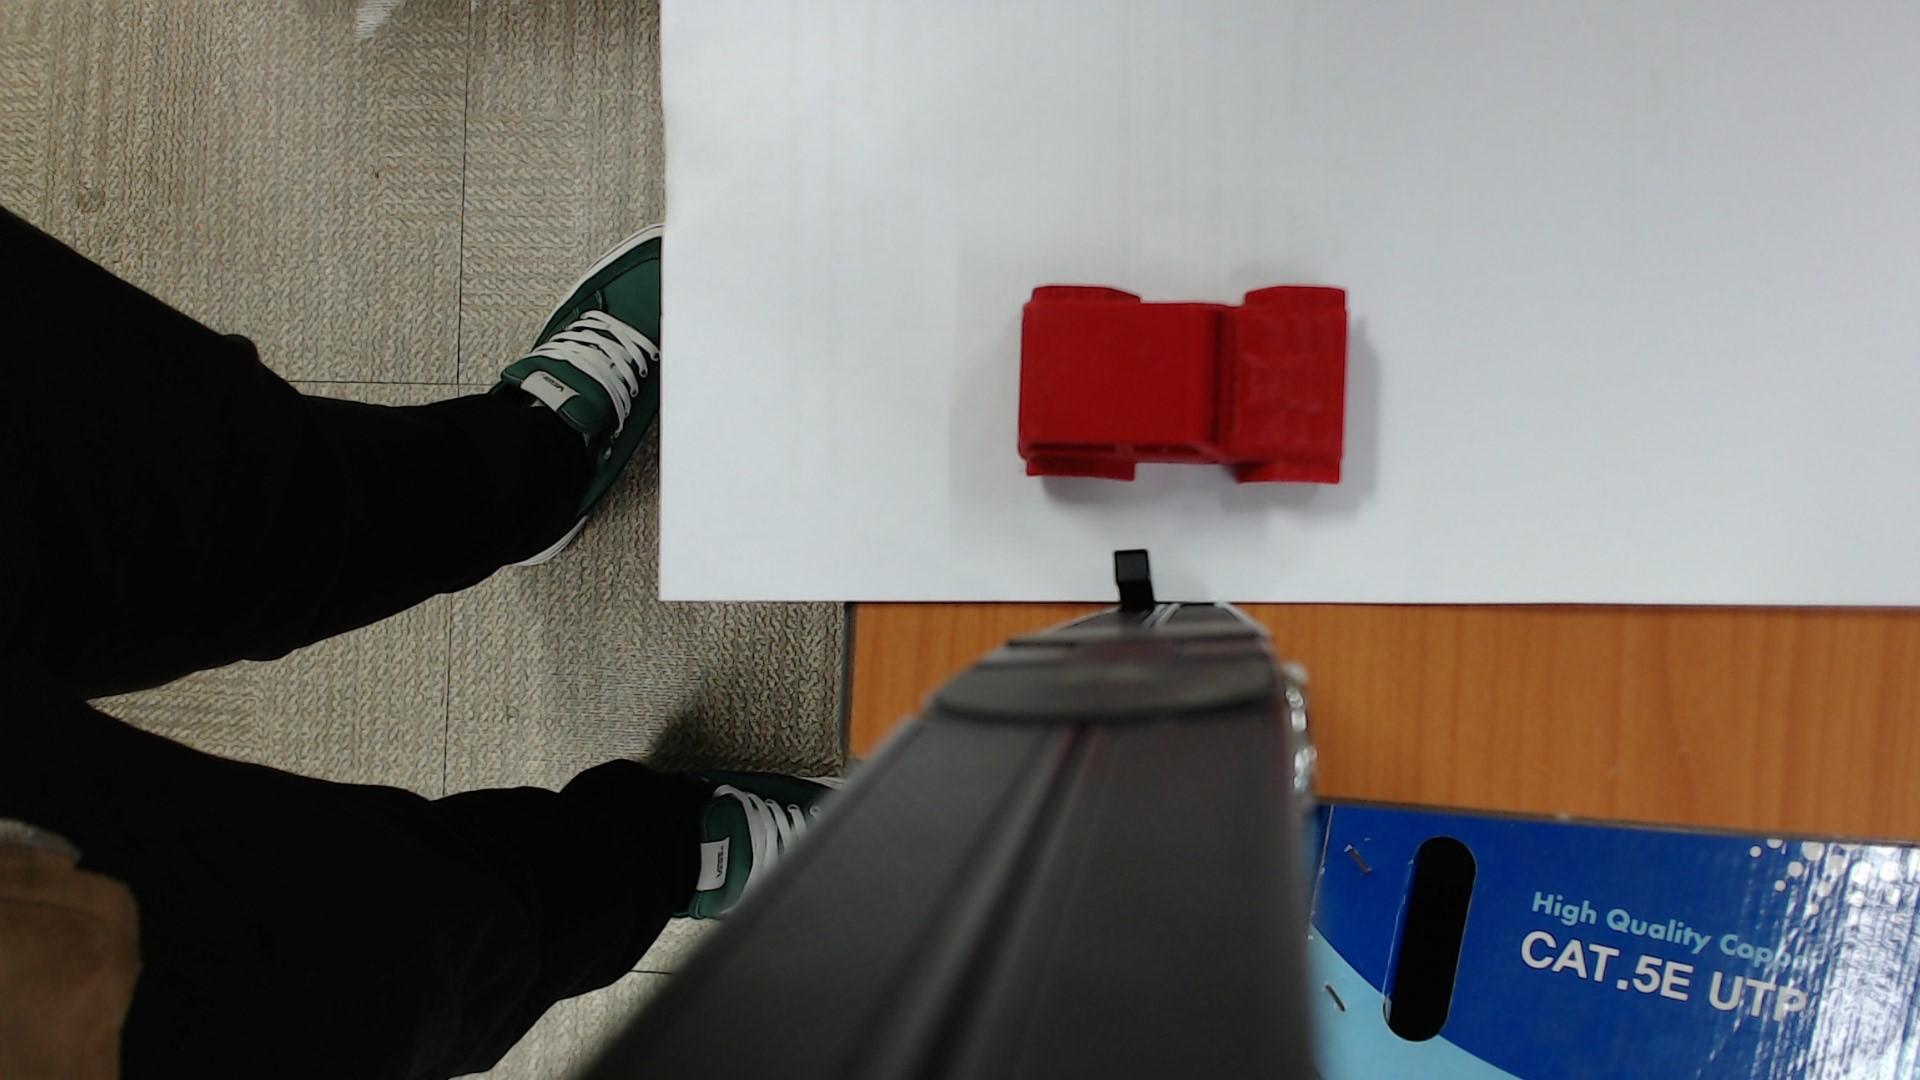Upper_ok: (1017, 286, 1346, 484)
